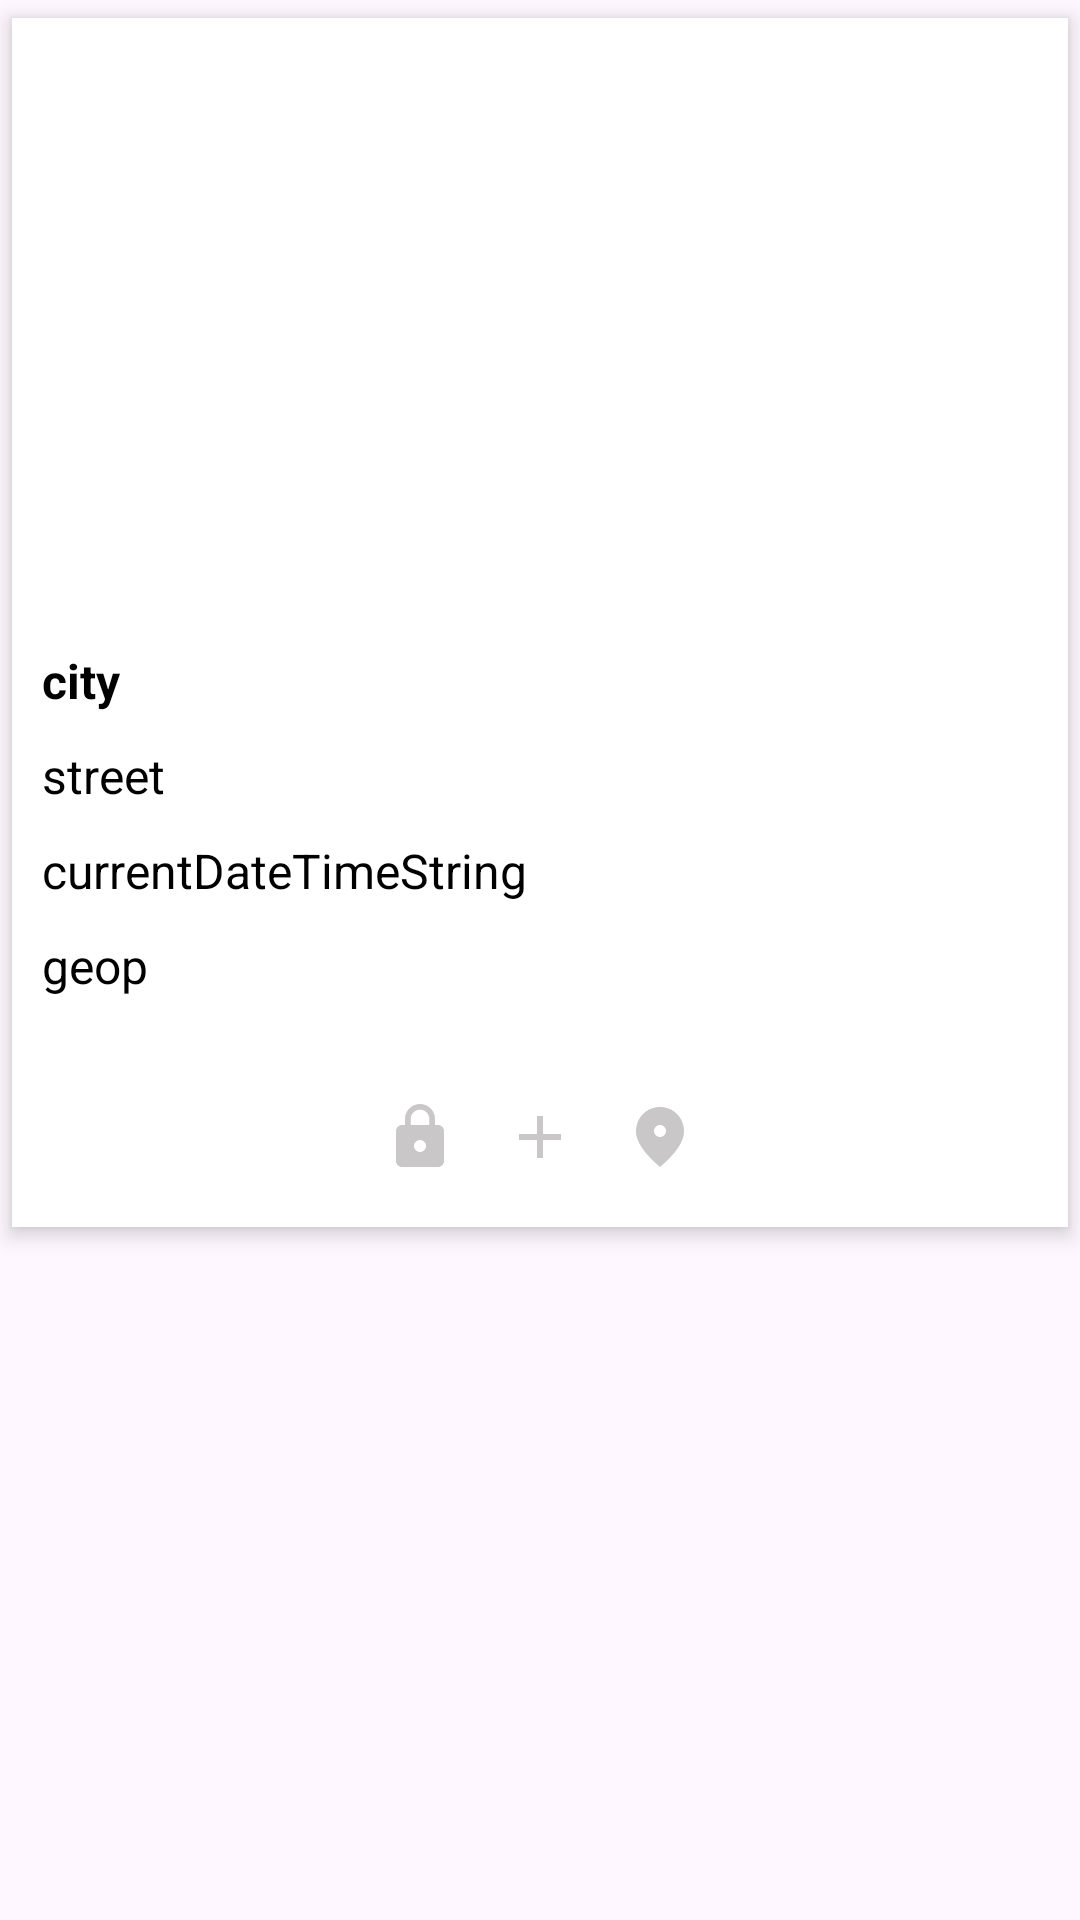

Icon click points for this 1080px×1920px phone screenshot, format point (x, y):
add: point (540, 1137)
fmd good: point (660, 1137)
lock: point (420, 1135)
